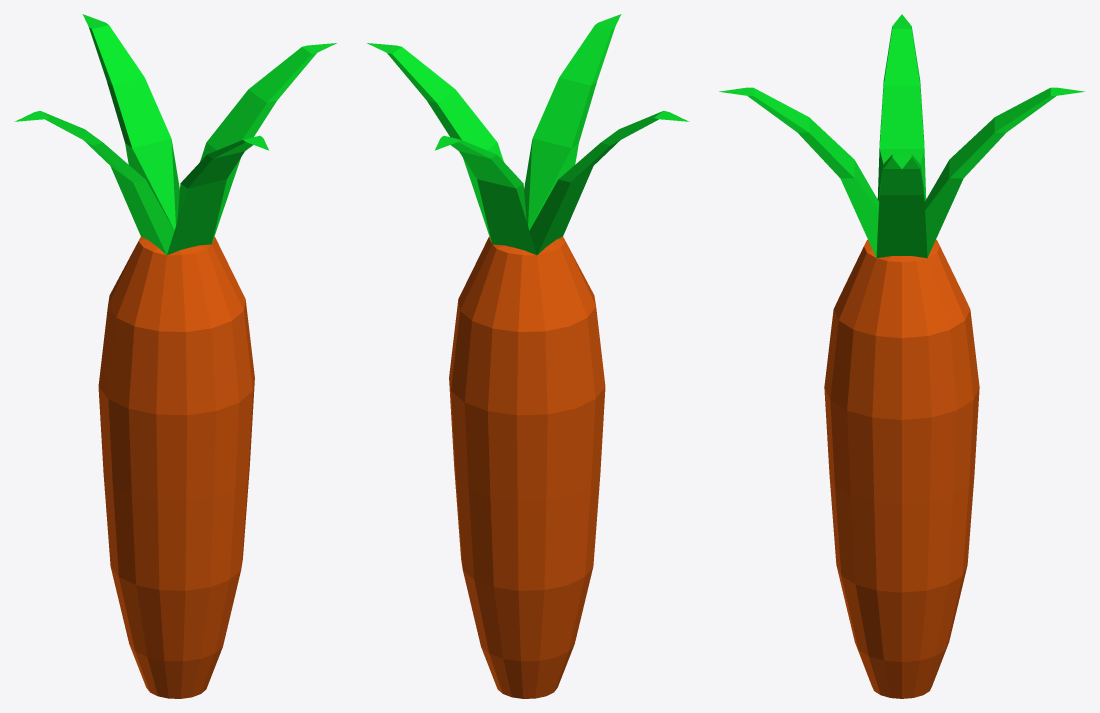
Rendered from Carrot.fbx.
3 views of the same model, side by side, from view 1: azimuth 30°, elevation 25°; view 2: azimuth 150°, elevation 25°; view 3: azimuth 270°, elevation 25° (orthographic).
Visible parts, largest first — view 1: Carrot; view 2: Carrot; view 3: Carrot.
Part boxes in pixels (box(x1,y1,x2,y2)): Carrot: box(14, 14, 336, 698); Carrot: box(367, 14, 689, 698); Carrot: box(719, 14, 1084, 698).
Size of the model in its own units: 140 by 140 by 254.
